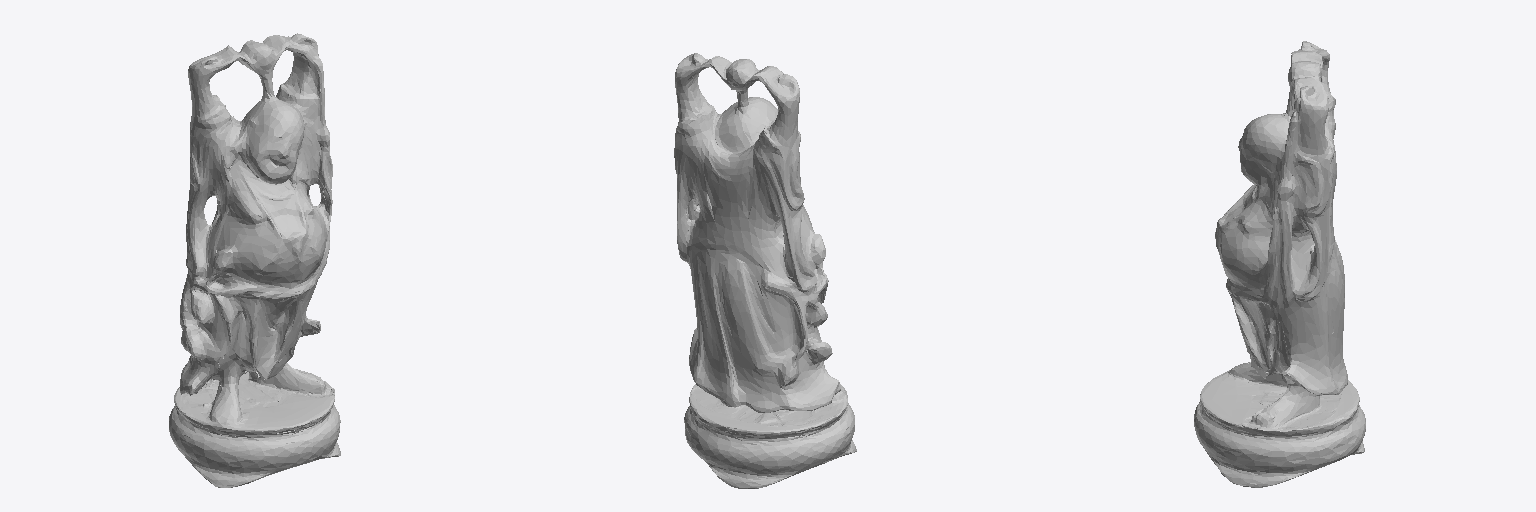
The model's file is happybuddha.obj.
The picture shows the model from 3 angles: view 1: azimuth 30°, elevation 25°; view 2: azimuth 150°, elevation 25°; view 3: azimuth 270°, elevation 25°; orthographic projection.
Visible parts, largest first — view 1: Mesh; view 2: Mesh; view 3: Mesh.
Part boxes in pixels (left/top/right/bottom): Mesh: left=169, top=33, right=340, bottom=487; Mesh: left=674, top=53, right=856, bottom=488; Mesh: left=1194, top=41, right=1365, bottom=487.
Bounding box in the file's own units: 0.7923 × 1.99 × 0.7792.